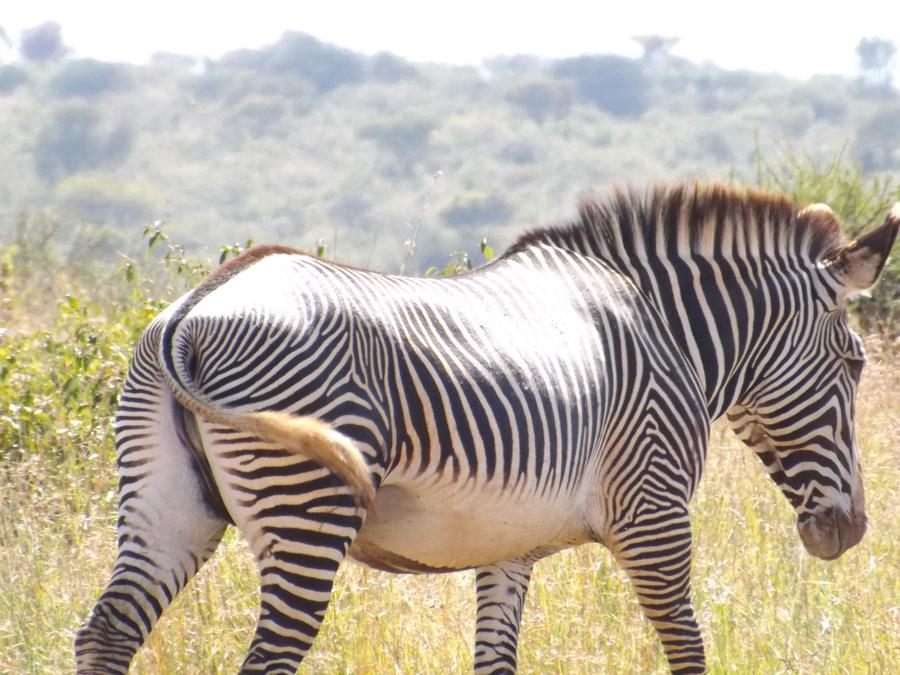zebra_grevys: (140, 232, 701, 516)
